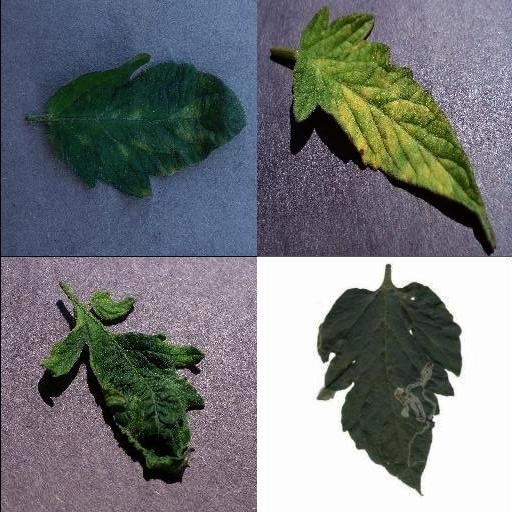Leaf Miner: (314, 281, 462, 495)
Leaf Mold: (288, 8, 496, 248), (41, 52, 245, 202)
Mosaic Virus: (34, 290, 204, 476)
